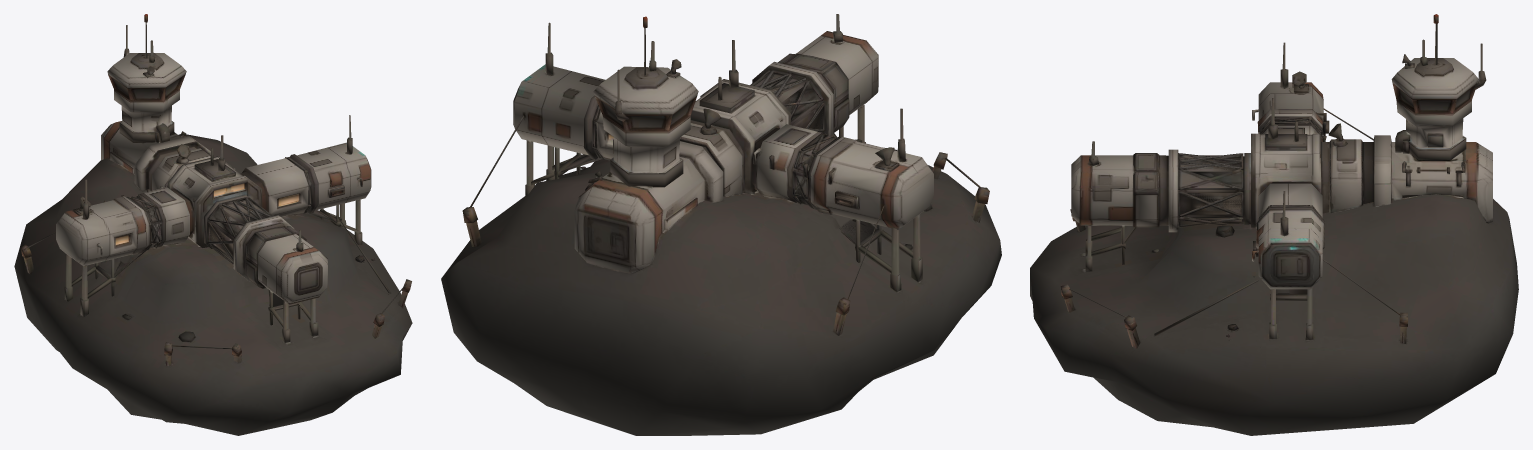
Rendered from original_glb.glb.
3 views of the same model, side by side, from view 1: azimuth 30°, elevation 25°; view 2: azimuth 150°, elevation 25°; view 3: azimuth 270°, elevation 25° (orthographic). The views are drawn at different scales.
Visible parts, largest first — view 1: Phobos Station; view 2: Phobos Station; view 3: Phobos Station.
Boxes of the visible parts, x1,y1,x2,y2 form: Phobos Station: (14, 14, 412, 435); Phobos Station: (441, 14, 1001, 435); Phobos Station: (1030, 14, 1518, 435).
Size of the model in its own units: 0.8379 by 0.791 by 0.998.
1 material, 1 textured.
